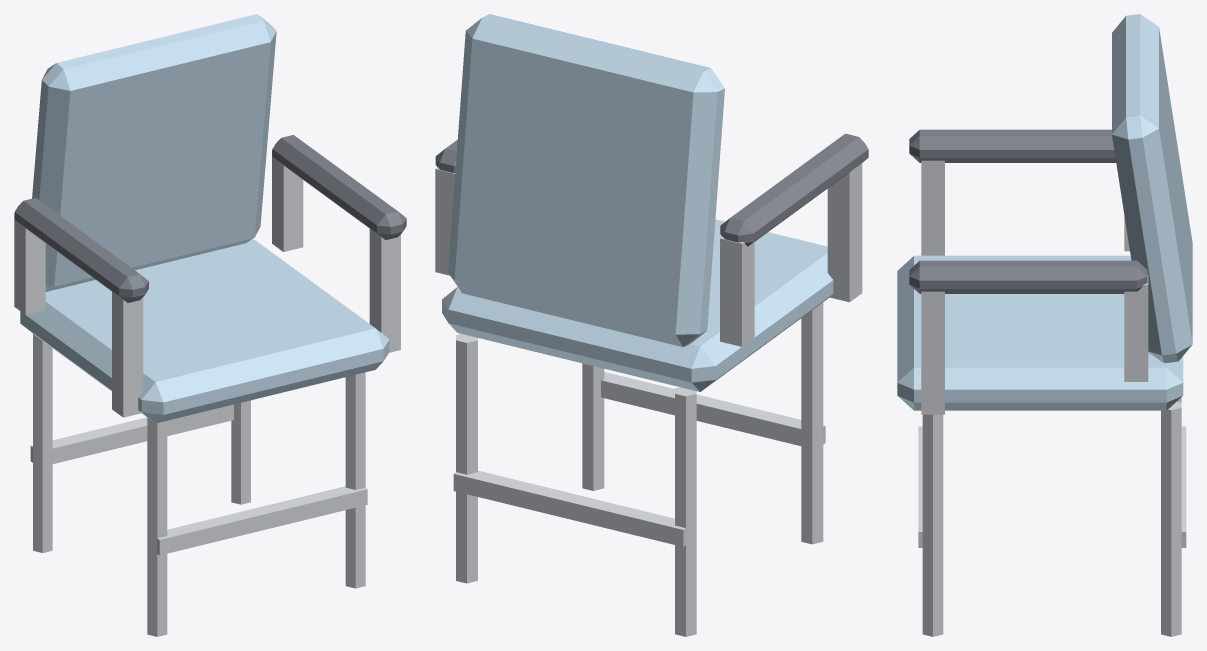
Rendered from visitor-chair.glb.
3 renders of one model, left to right at view 1: azimuth 30°, elevation 25°; view 2: azimuth 150°, elevation 25°; view 3: azimuth 270°, elevation 25°, orthographic. The views are drawn at different scales.
Parts seen in each view (by area): view 1: single-chair-with-arms; view 2: single-chair-with-arms; view 3: single-chair-with-arms.
Boxes of the visible parts, x1,y1,x2,y2 form: single-chair-with-arms: (14,14,406,636); single-chair-with-arms: (435,14,868,636); single-chair-with-arms: (897,14,1192,636).
Bounding box in the file's own units: 0.58 × 0.9572 × 0.4957.
